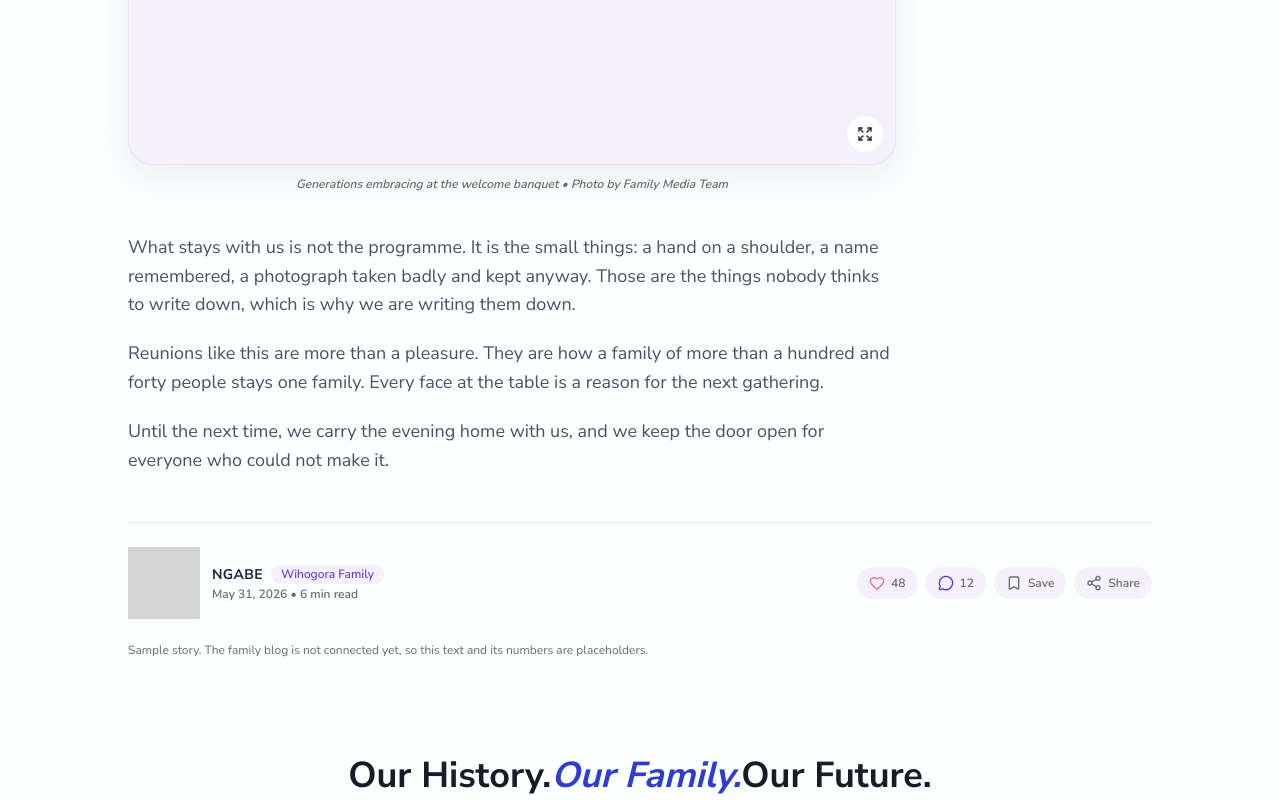
Test: ArticleDetailView › copies the link and says so
(page scrolled)
Click the button with aria-label "Share this story". click: (1113, 583)
box: 1074,567 -> 1152,599
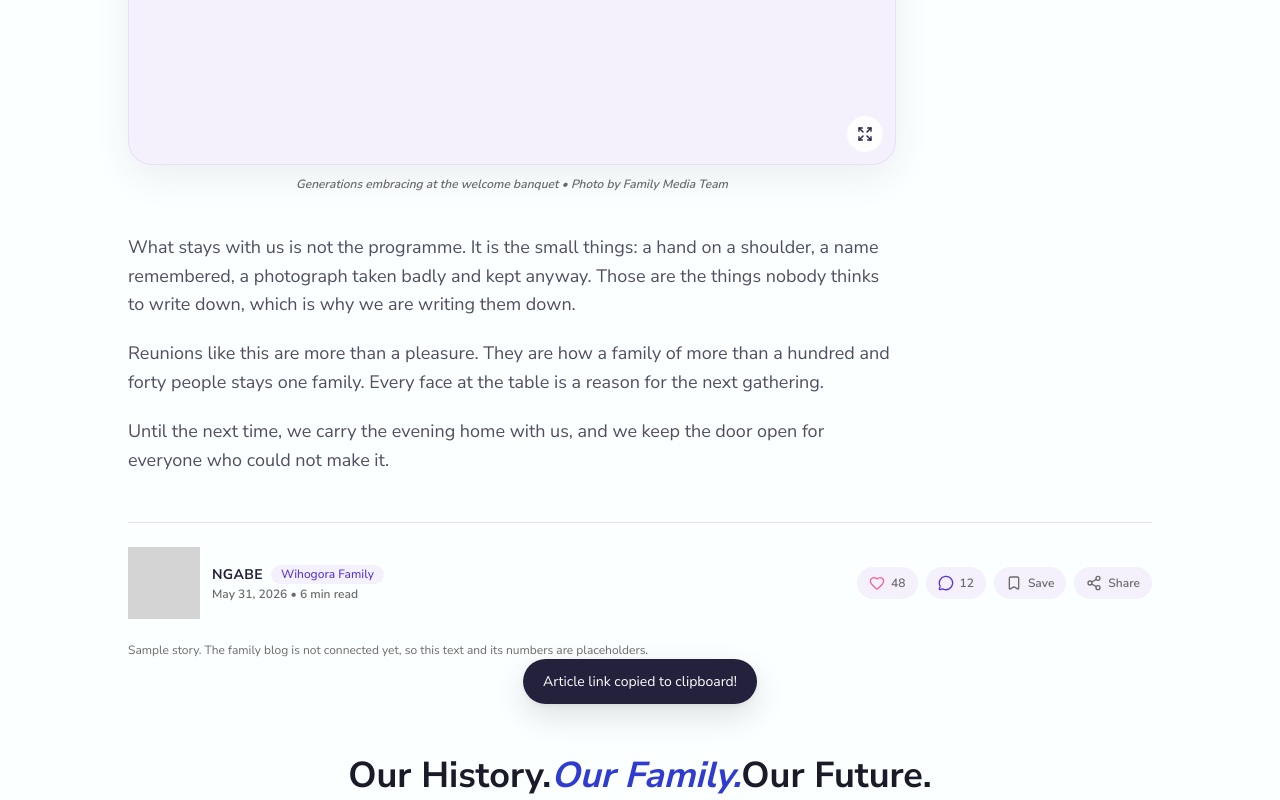
Expected: the message reads "Article link copied to clipboard!", 543,672 -> 737,691
